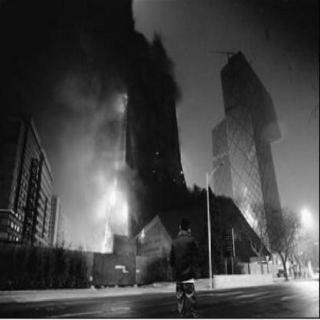Fire: (232, 188, 258, 230), (110, 83, 130, 119)
Smoke: (2, 2, 186, 148)
other: (270, 250, 294, 278), (298, 201, 314, 234)
